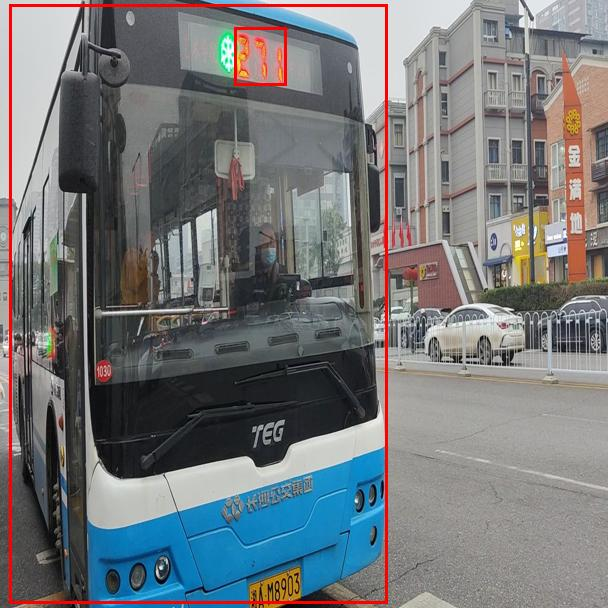bus: (9, 4, 387, 603)
screen: (234, 27, 286, 85)
